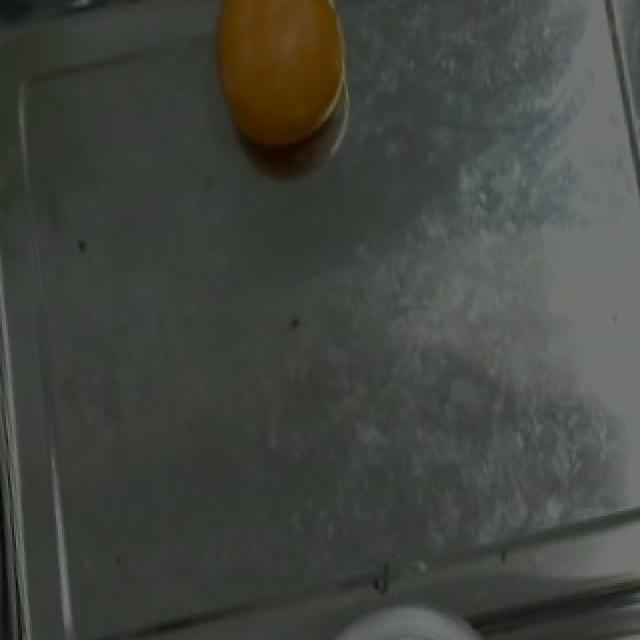Fruit: (194, 3, 368, 171), (308, 590, 522, 640)
